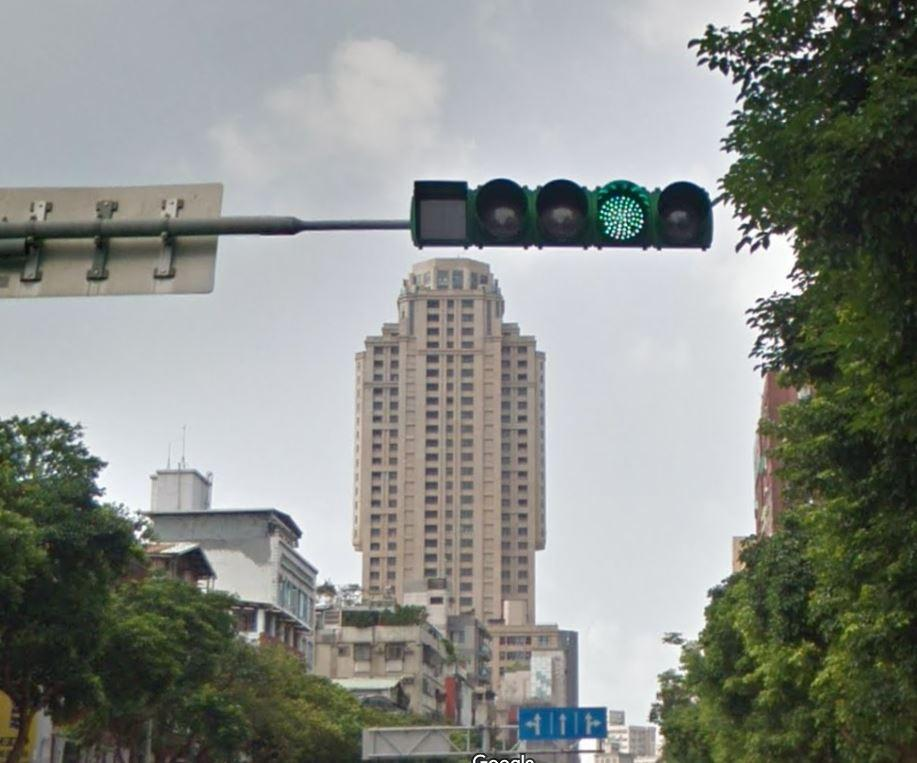green_traffic_light: (420, 174, 712, 255)
